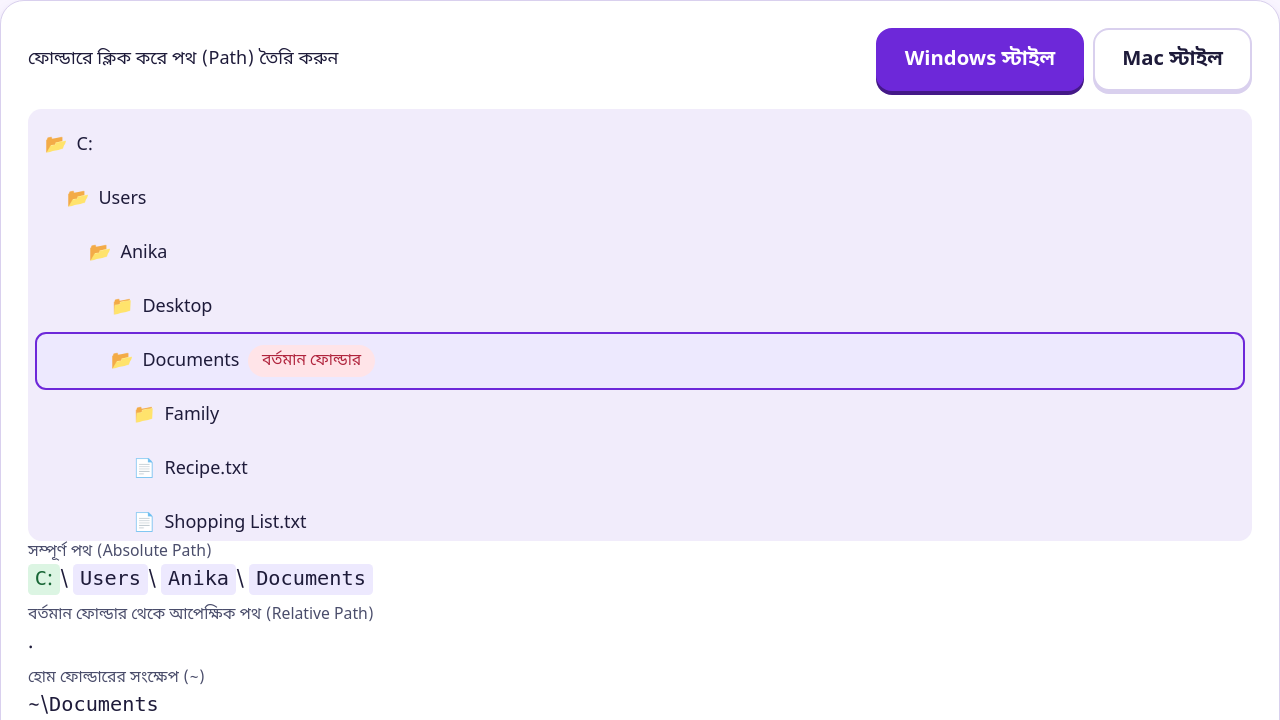
it: path-explorer widget › builds absolute and relative paths as folders are clicked, and flips style
Expected: the text with test id "rel-path" reads ".", [28, 628, 33, 656]
Click the list item "📁 Family" at (192, 414), box [37, 388, 1243, 442]
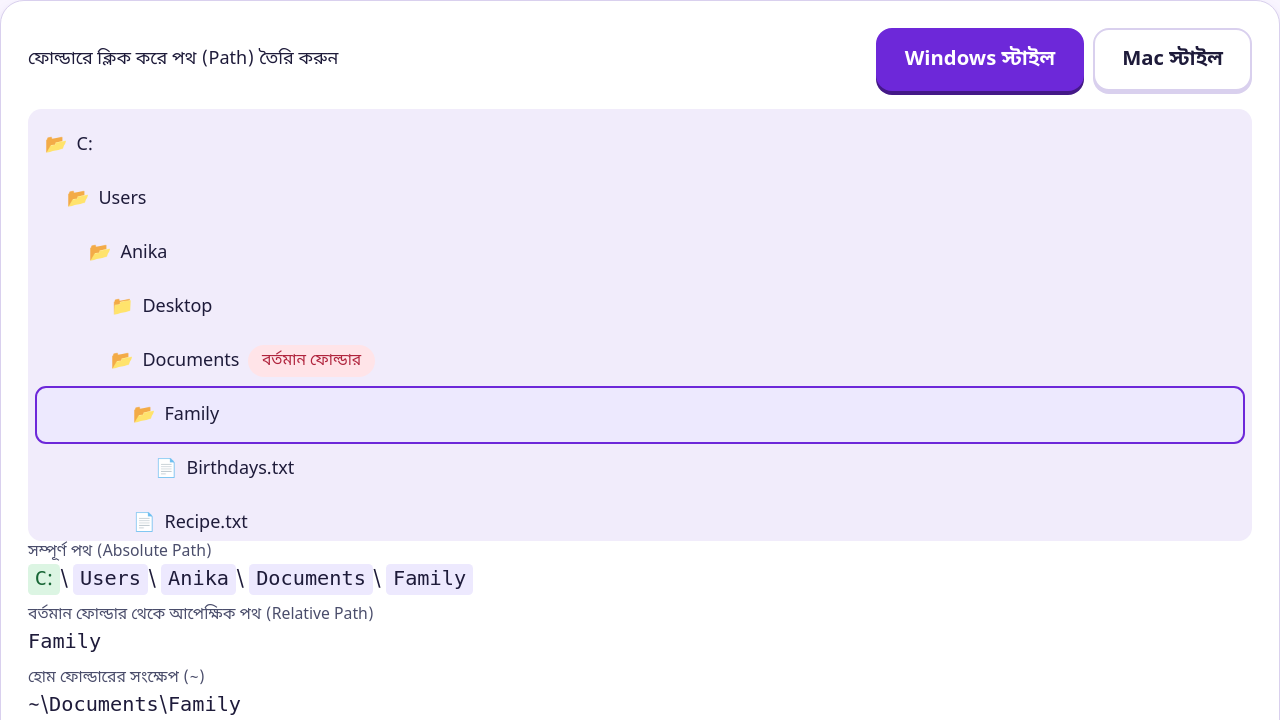
Click the list item "📄 Birthdays.txt" at (240, 468), box [37, 442, 1243, 496]
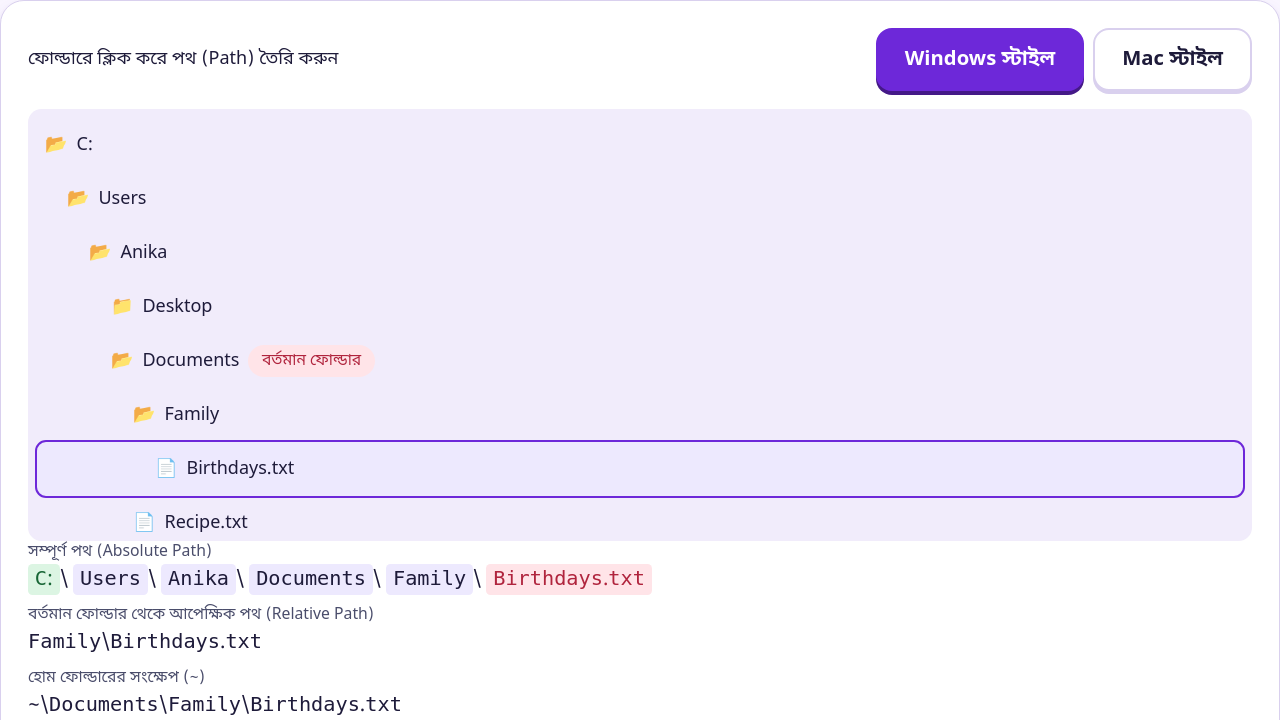
Result: the text with test id "rel-path" reads "Family\\Birthdays.txt" at [28, 628, 262, 656]
Click the button "Mac স্টাইল" at (1173, 60), box [1093, 28, 1252, 91]
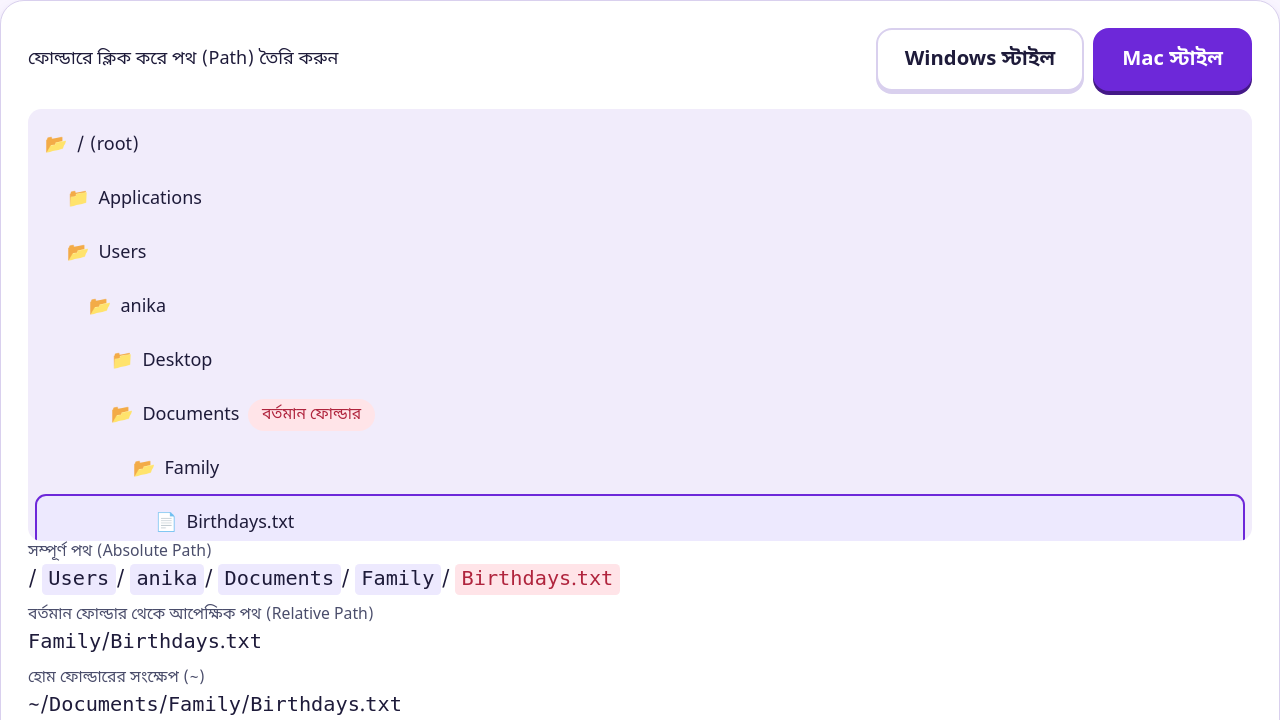
Result: the text with test id "home-path" reads "~/Documents/Family/Birthdays.txt" at [28, 692, 402, 718]
